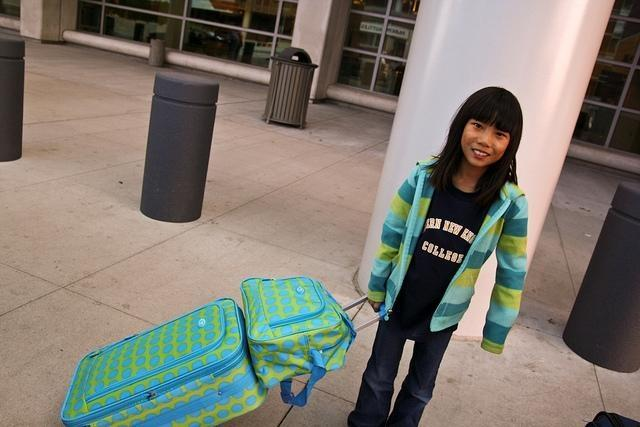car: (185, 26, 232, 58)
